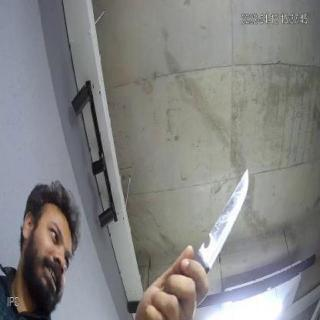knife: (191, 166, 254, 268)
